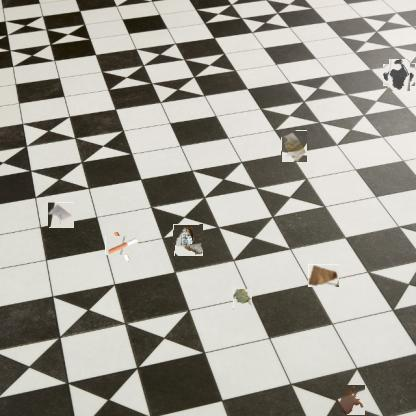dirty: (174, 224, 204, 256), (281, 130, 307, 162), (308, 264, 339, 287), (109, 232, 135, 259), (49, 202, 74, 228), (233, 290, 252, 310)
liquid: (337, 385, 365, 415), (385, 62, 413, 89)
